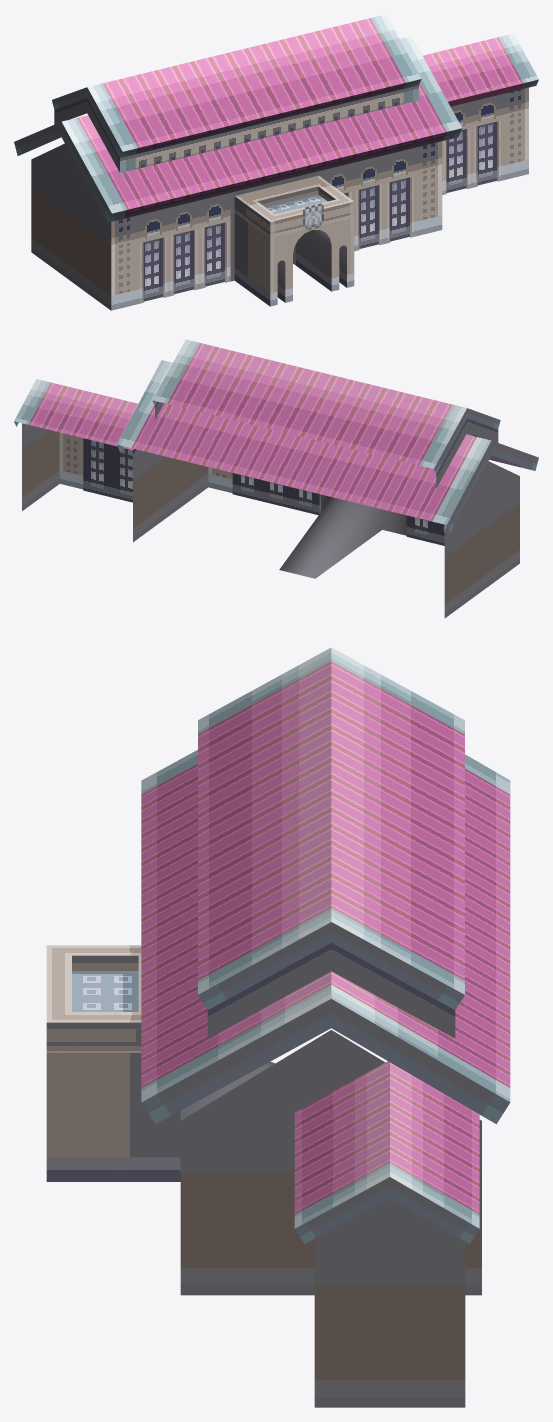
File: museum.glb
3 renders of one model, top to bottom at view 1: azimuth 30°, elevation 25°; view 2: azimuth 150°, elevation 25°; view 3: azimuth 270°, elevation 25°, orthographic. The views are drawn at different scales.
Parts seen in each view (by area): view 1: Pewter Museum of Science; view 2: Pewter Museum of Science; view 3: Pewter Museum of Science.
Boxes of the visible parts, x1,y1,x2,y2 form: Pewter Museum of Science: (14, 14, 538, 310); Pewter Museum of Science: (14, 339, 538, 618); Pewter Museum of Science: (46, 647, 510, 1407).
Bounding box in the file's own units: 243 × 94.52 × 112.
Materials: 11 (11 with a texture image).
